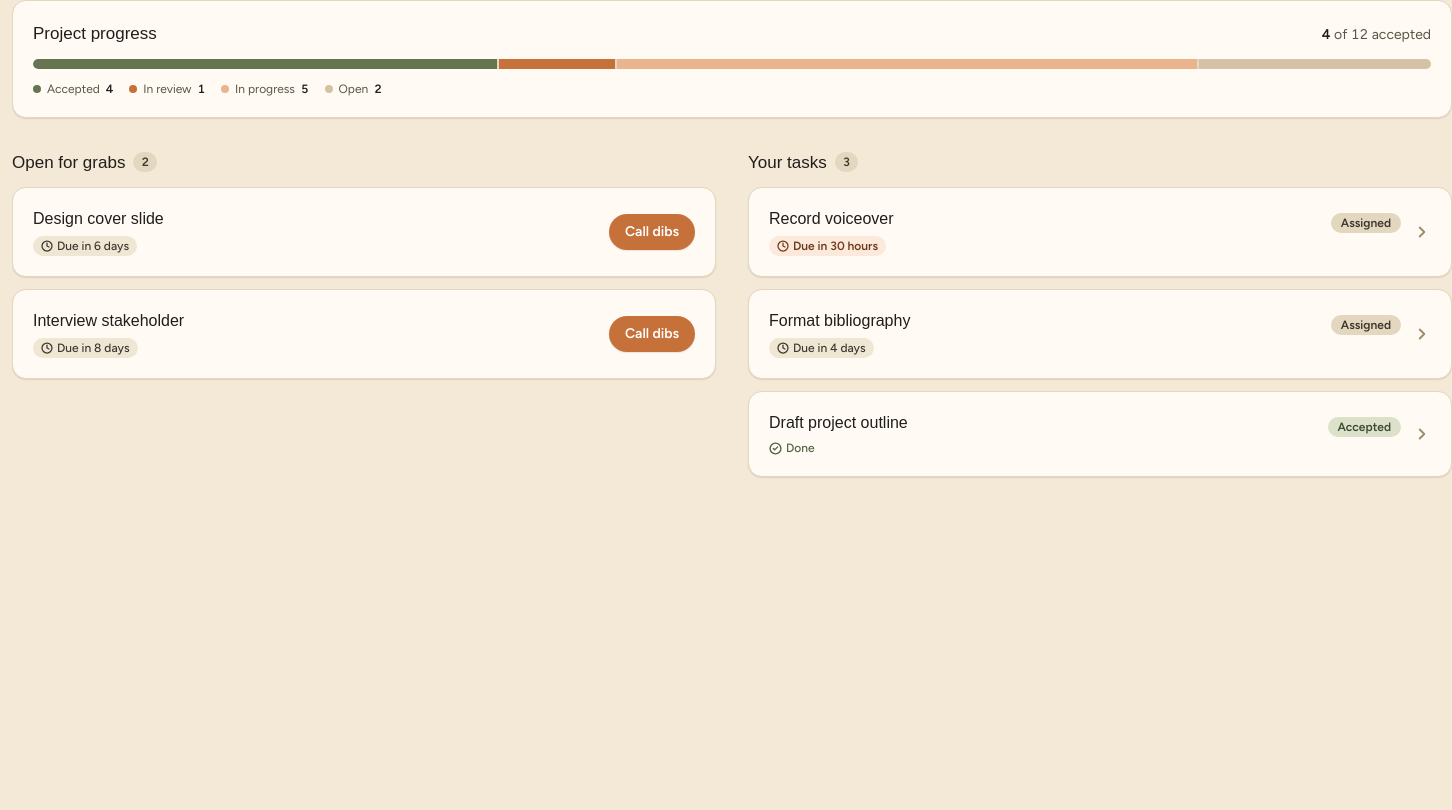
Test: pool page › shows the empty state once every open task has been claimed
Click the button "Call dibs" in the row of "Design cover slide".
click(652, 232)  # box [609,214,695,250]
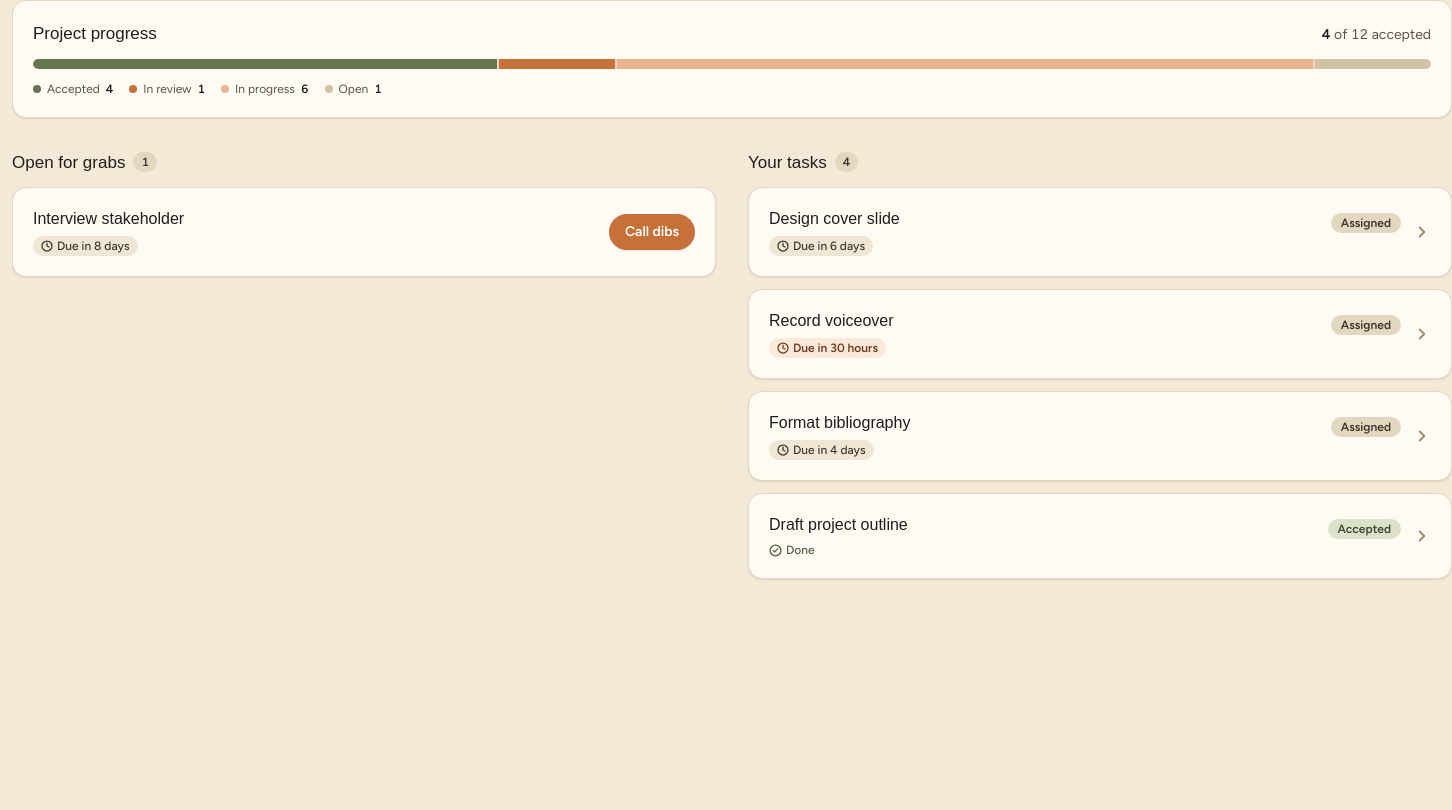
Click the button "Call dibs".
click(652, 232)  # box [609,214,695,250]
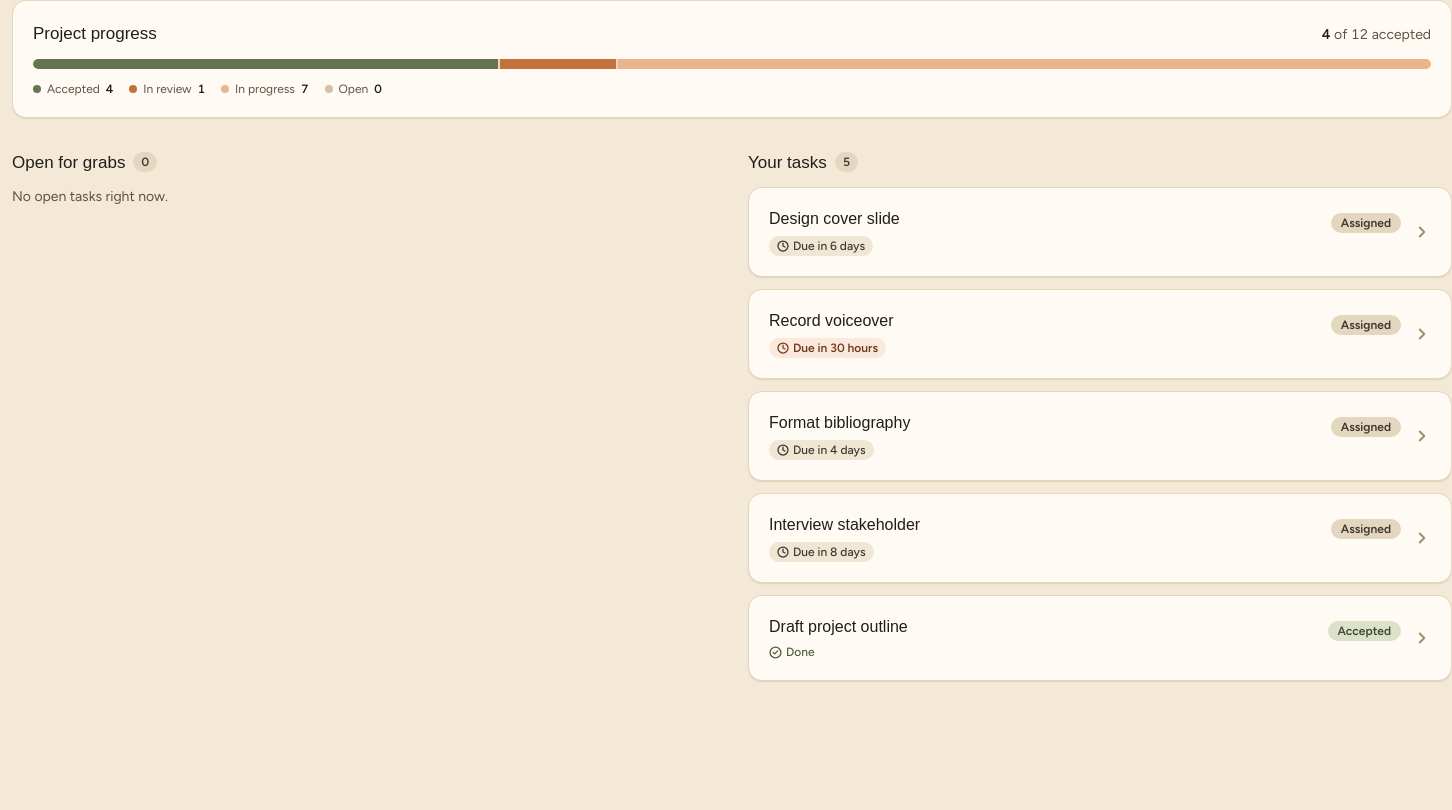
Expected: no buttons are shown
Expected: the text "No open tasks right now." is shown, [12,188,168,205]
